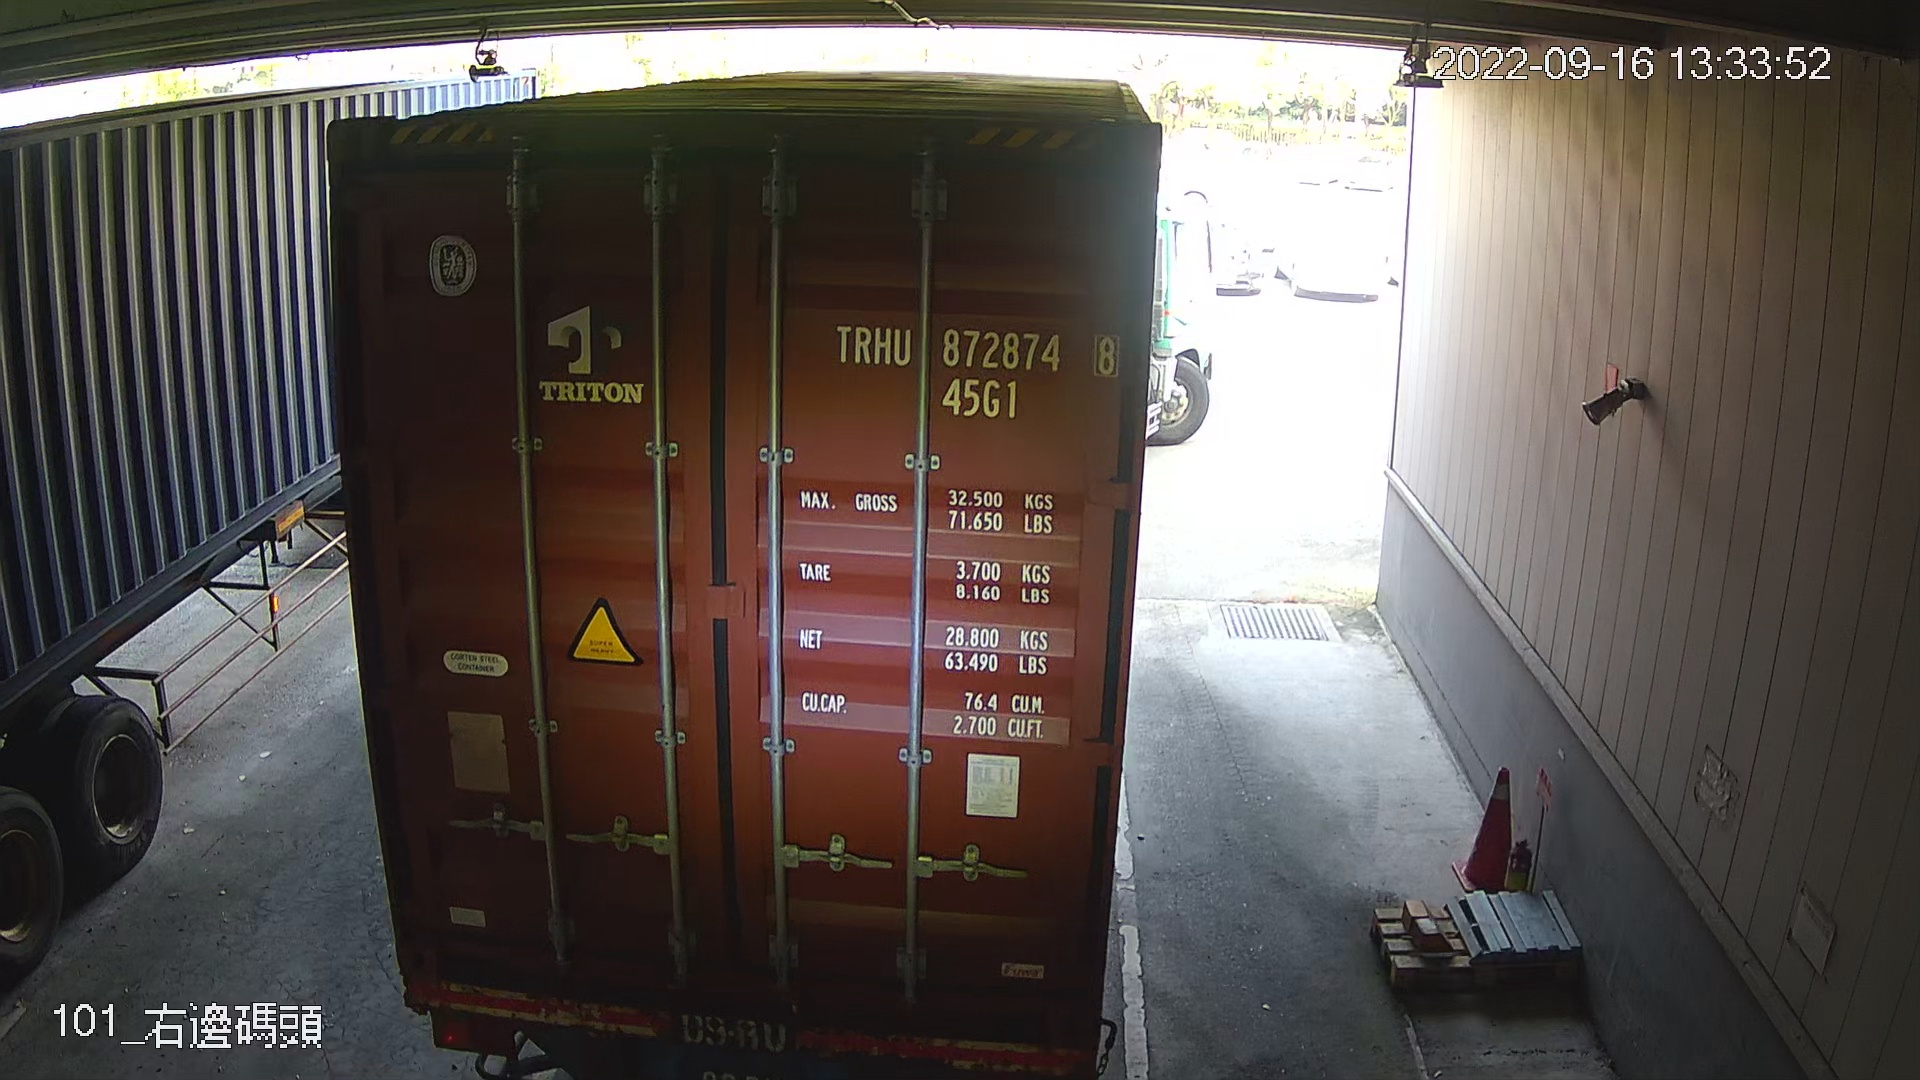container: (820, 313, 1129, 427)
